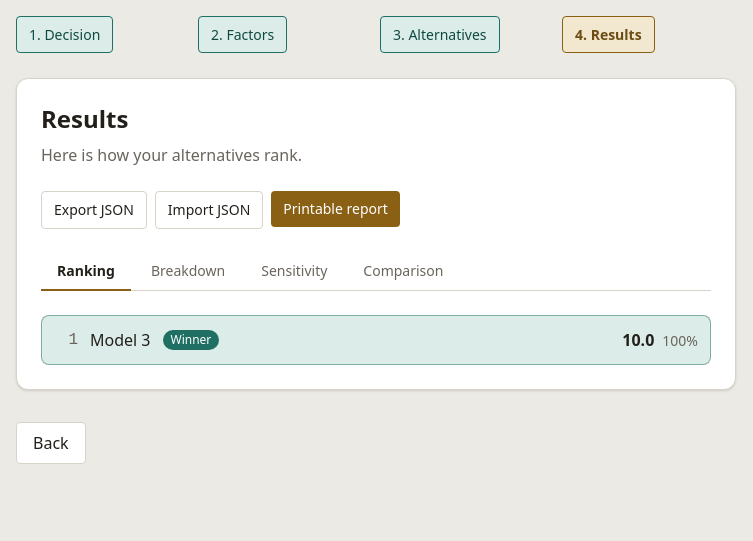
Test: ComparisonTable › shows an em dash for a missing rating
Step 1. Click the tab "Comparison" → (403, 272), box [347,253,459,291]
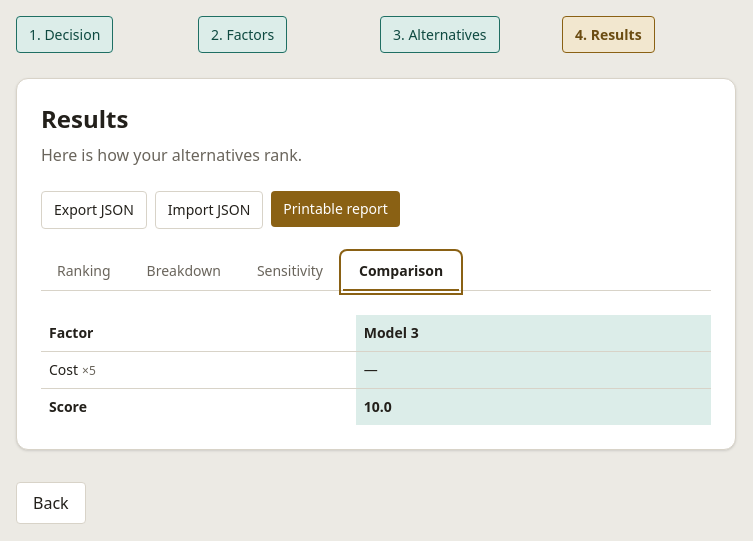
Check: the text "—" is shown, box [356,352,711,388]
